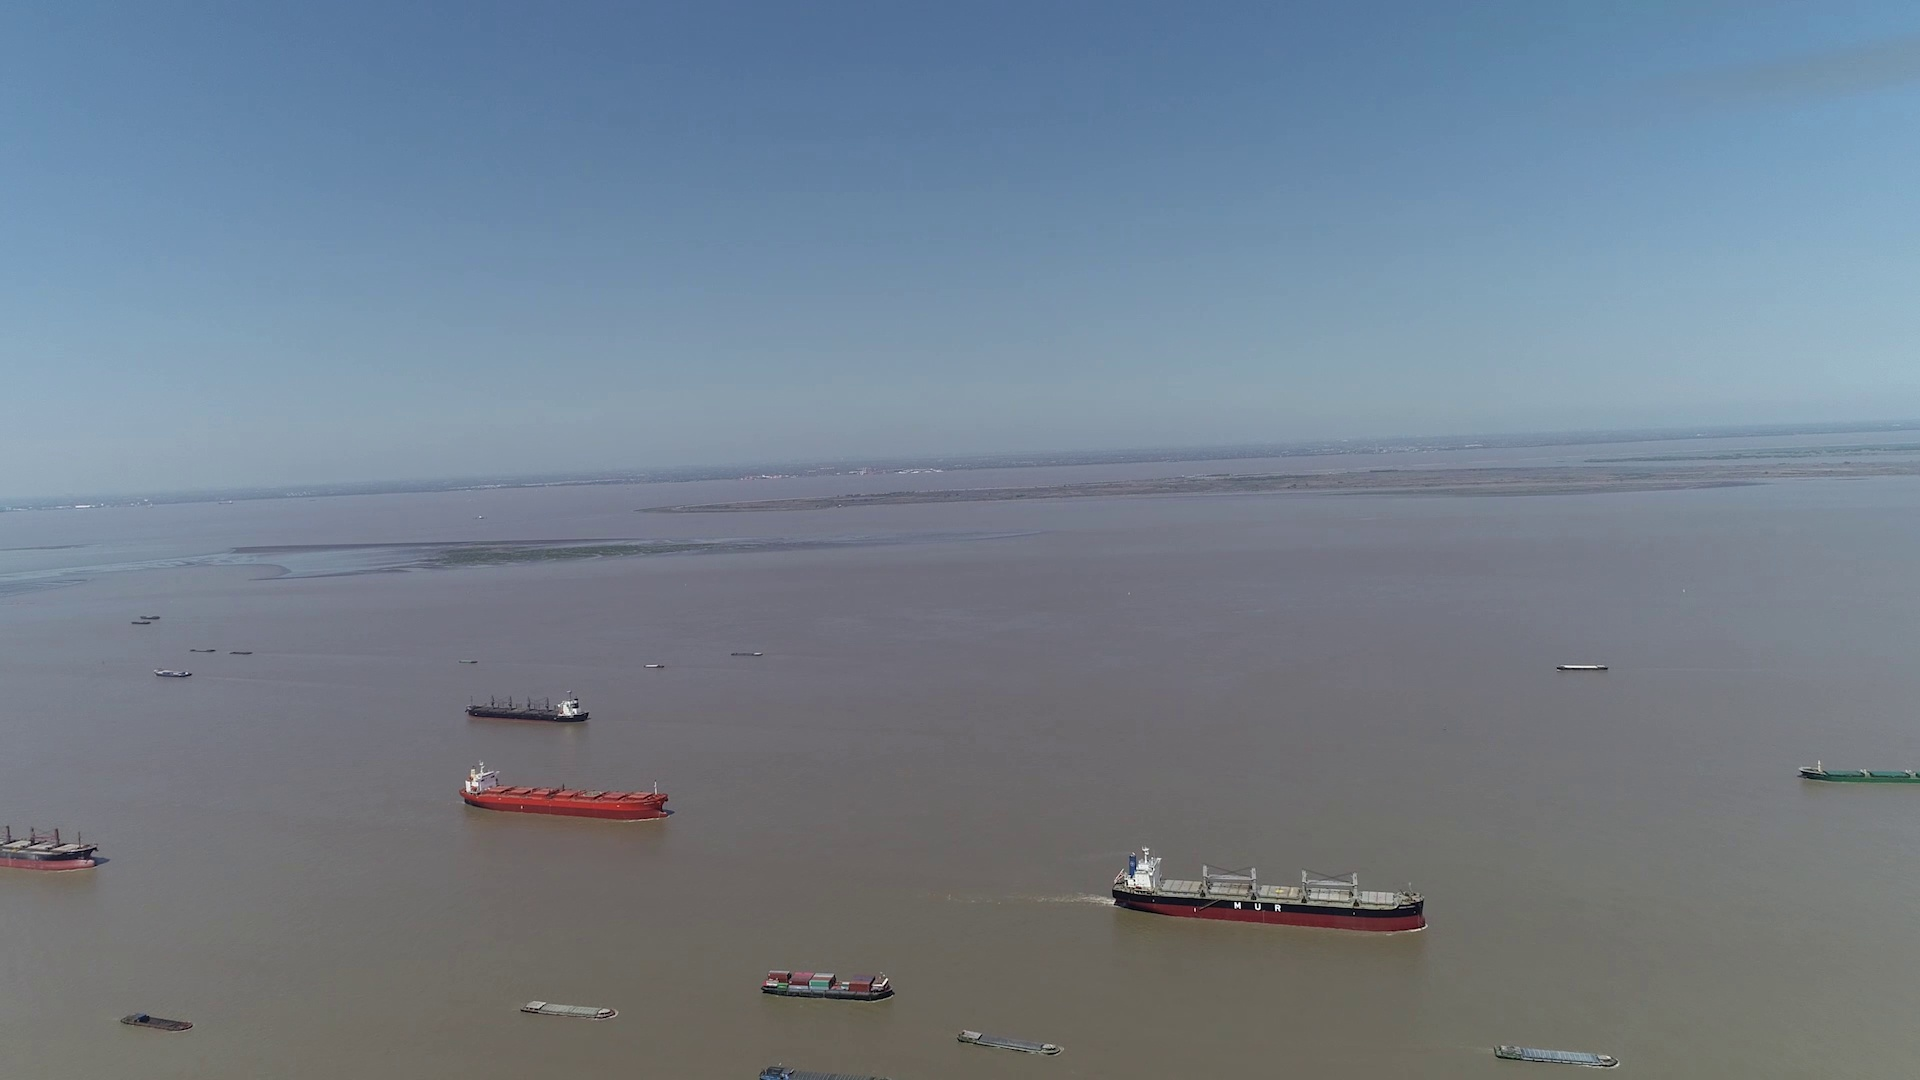ship: (1110, 845, 1425, 934), (459, 758, 666, 819), (1, 810, 104, 874), (764, 968, 894, 1002), (465, 691, 589, 723), (1494, 1043, 1621, 1069), (953, 1029, 1065, 1058), (1797, 761, 1919, 785), (770, 1059, 887, 1080), (522, 1000, 618, 1021), (117, 1011, 193, 1031), (1556, 665, 1607, 673), (153, 667, 189, 676)
